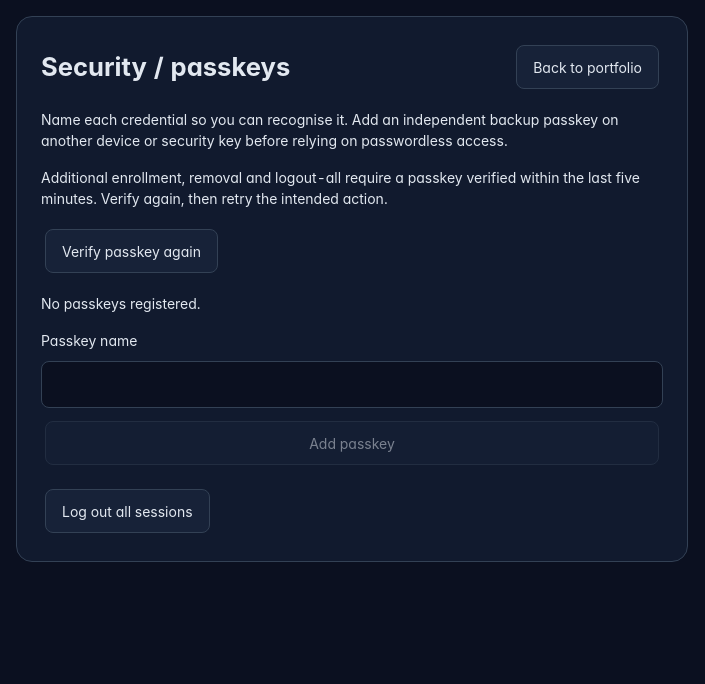
confirms logout-all and clears the authenticated app and caches
Expected: the text "No passkeys registered." is shown, [41, 295, 201, 312]
Click the button "Log out all sessions": x=127, y=511 [45, 489, 210, 533]
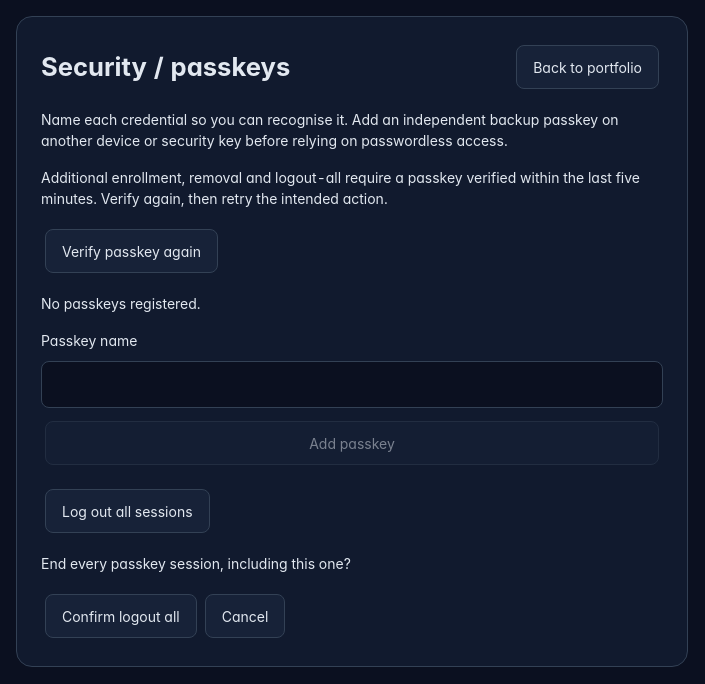
Click the button "Confirm logout all": x=121, y=616 [45, 594, 197, 638]
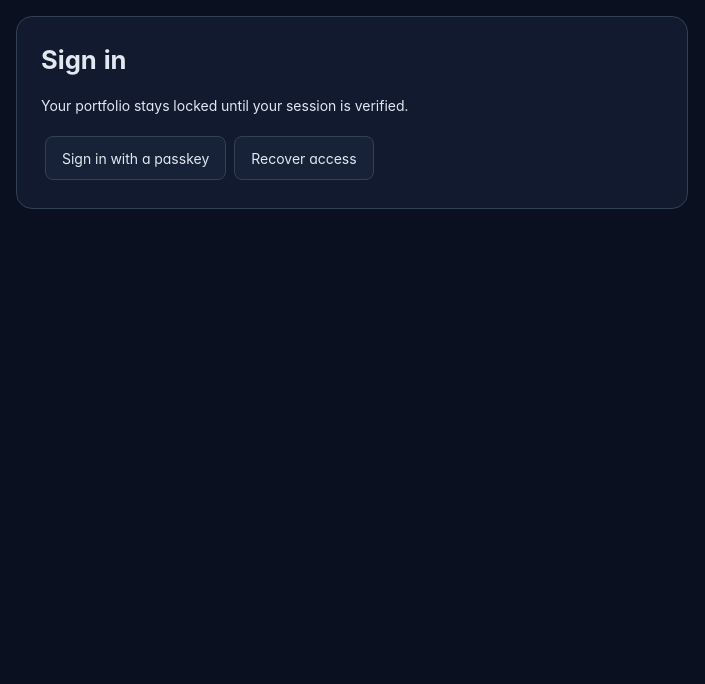
Result: the button "Sign in with a passkey" is shown at [45, 136, 226, 180]
